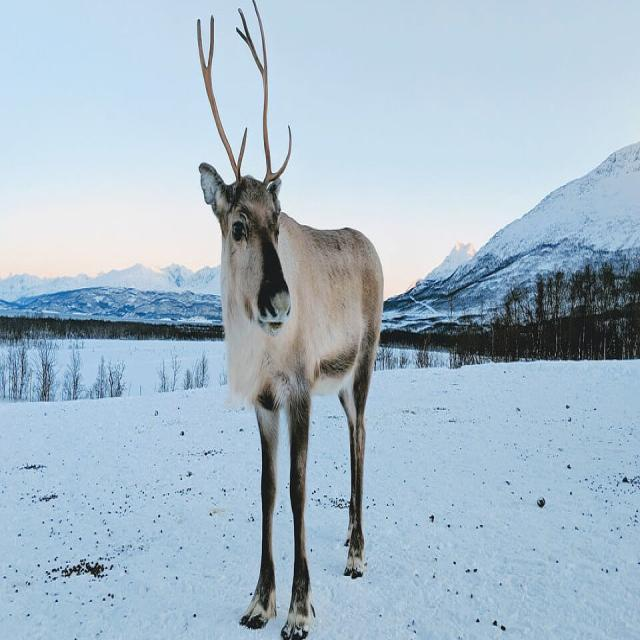Reindeer: (195, 0, 384, 640)
